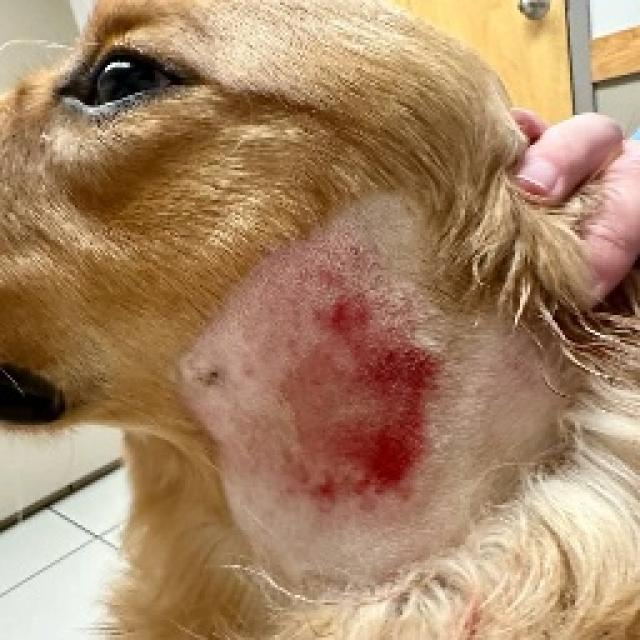hotspot: (284, 296, 429, 508)
